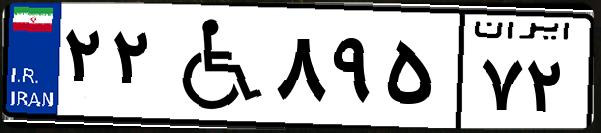2: (57, 26, 110, 100), (525, 38, 570, 115), (110, 28, 158, 98)
5: (385, 28, 445, 110)
7: (475, 38, 525, 113)
8: (270, 28, 330, 110)
9: (330, 28, 385, 110)
ژ (معلولین و جانبازان): (158, 12, 270, 120)
